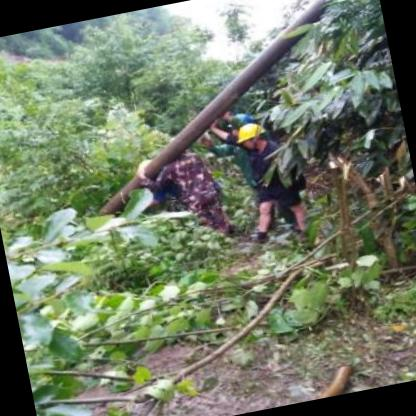helmet: (234, 117, 274, 154)
